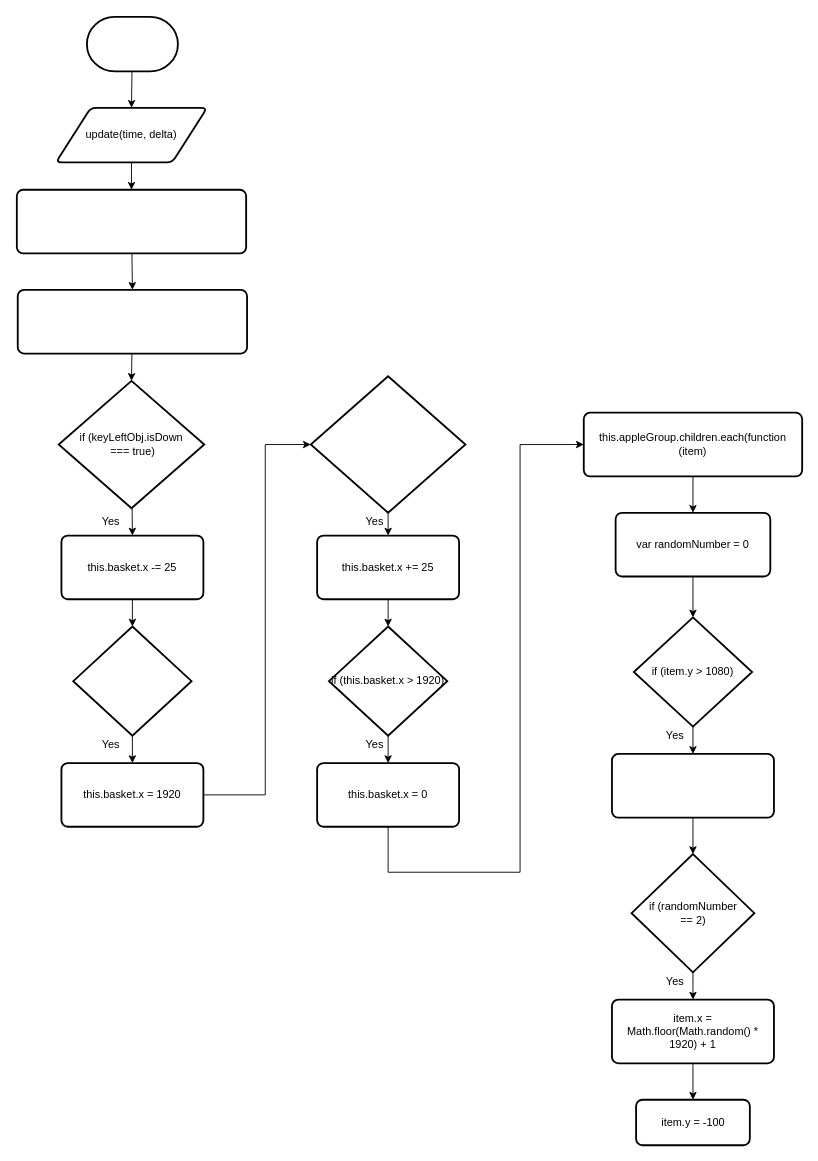
This 818x1161 diagram has some shape labels left out. The shapes that lost their labels are listed below. From the top down, each one's centre as x and y in pixels, then its label:
pixel 132 43: Start
pixel 131 221: const keyLeftObj = this.input.keyboard.addKey("LEFT")
pixel 132 321: const keyRightObj = this.input.keyboard.addKey("RIGHT")
pixel 387 444: if (keyRightObj.isDown === true)
pixel 132 680: if (this.basket.x < 0)
pixel 692 785: randomNumber = Math.floor(Math.random() * 2) + 1
